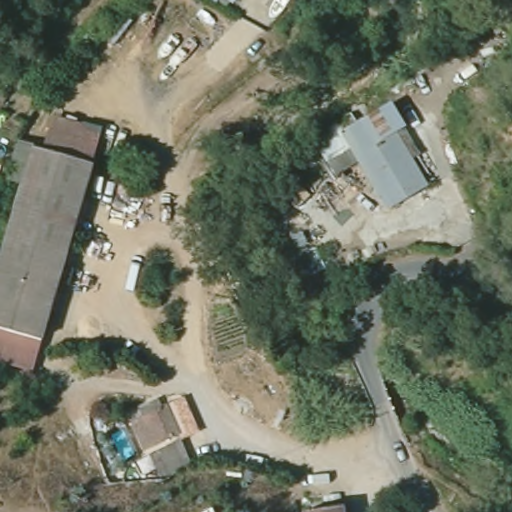pool: (108, 425, 138, 461)
